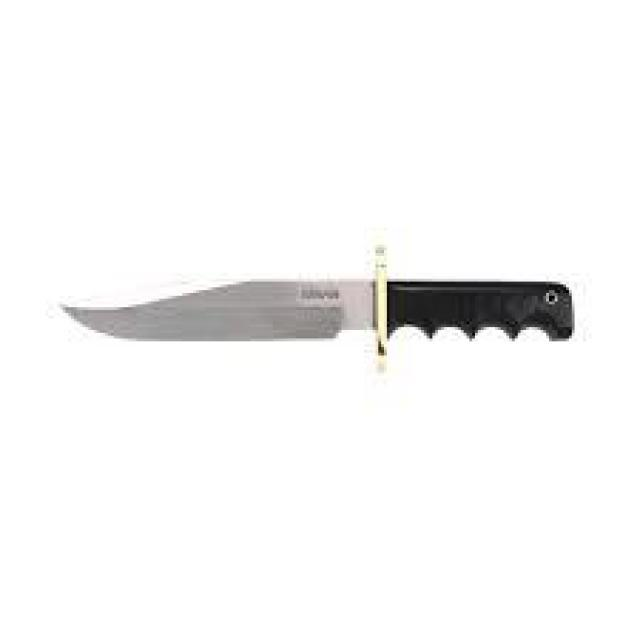Knife: (28, 230, 600, 384)
